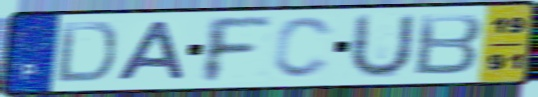A: (113, 19, 189, 83)
B: (411, 12, 486, 78)
C: (269, 15, 338, 81)
D: (53, 20, 120, 86)
F: (202, 15, 276, 85)
U: (344, 11, 419, 81)
